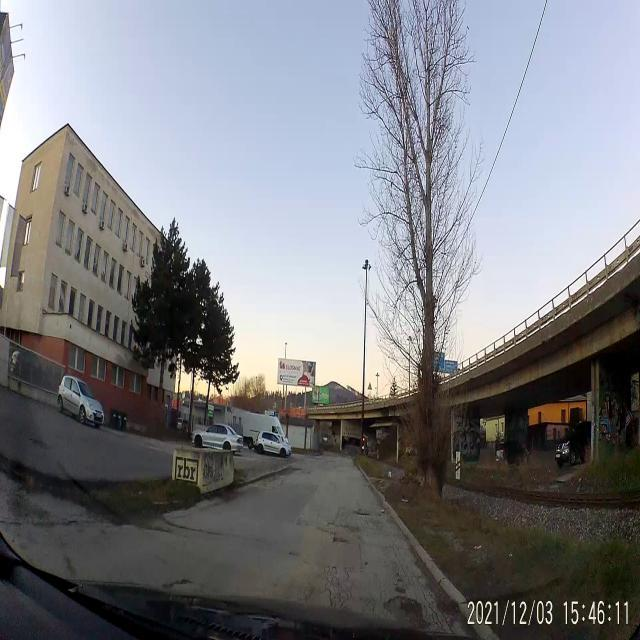Pothole: (384, 583, 427, 626), (328, 532, 349, 554), (352, 502, 373, 521)
